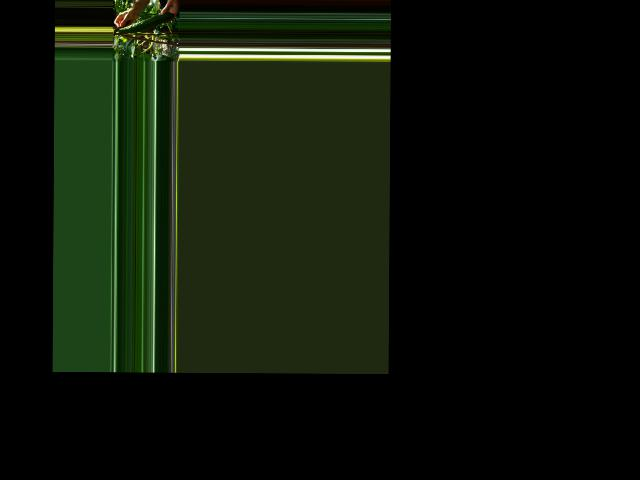cucumber: (119, 12, 174, 33)
